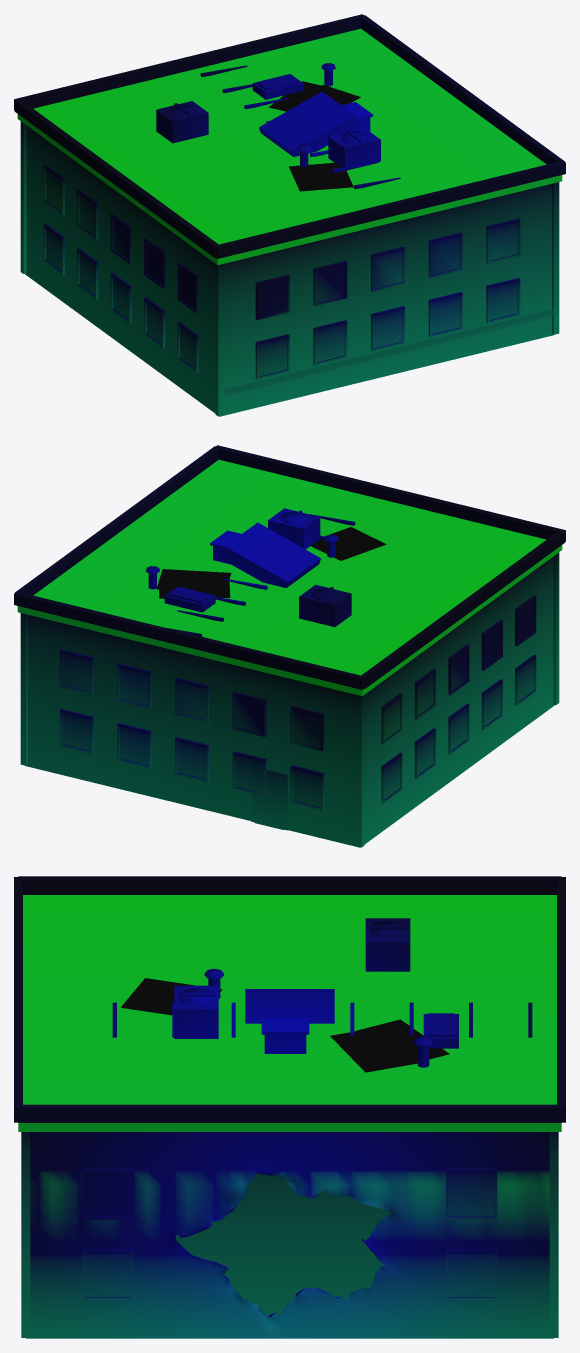
Rendered from city2storya_damaged.glb.
The picture shows the model from 3 angles, top to bottom: view 1: azimuth 30°, elevation 25°; view 2: azimuth 150°, elevation 25°; view 3: azimuth 270°, elevation 25°; orthographic projection. The views are drawn at different scales.
Parts seen in each view (by area): view 1: lod0; view 2: lod0; view 3: lod0.
Part boxes in pixels (x1,y1,x2,y2): lod0: (14, 14, 565, 416); lod0: (14, 445, 565, 847); lod0: (14, 876, 565, 1338).
Size of what is drawn, in the model's own units: 18.5 by 9.55 by 18.6.
